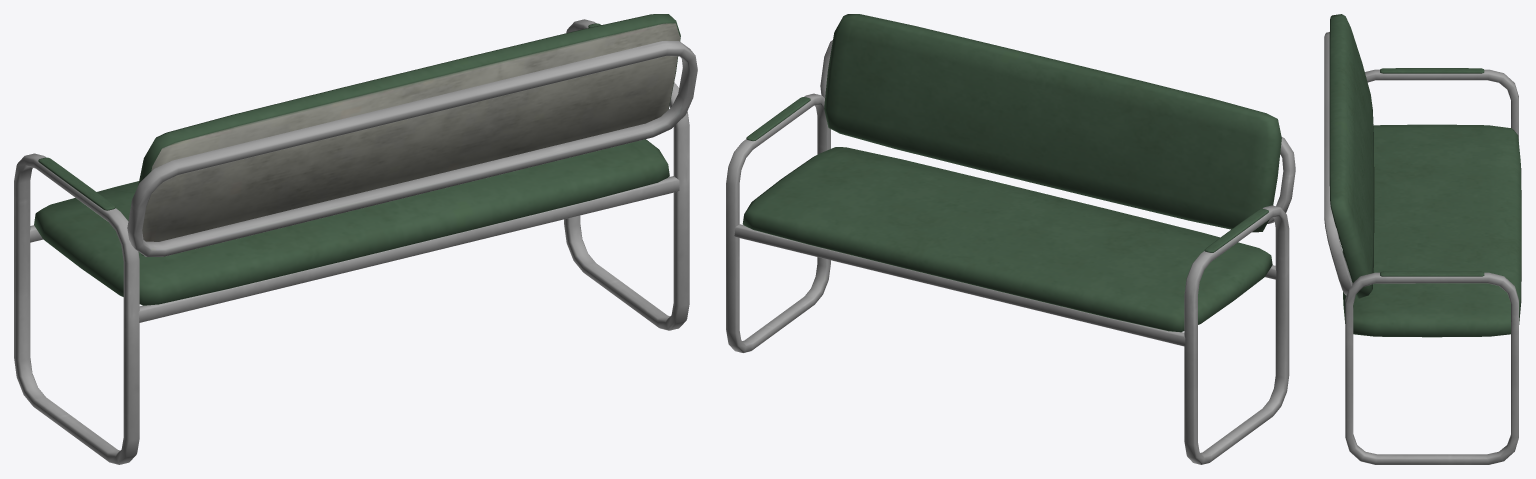
File: bench.fbx
3 views of the same model, side by side, from view 1: azimuth 30°, elevation 25°; view 2: azimuth 150°, elevation 25°; view 3: azimuth 270°, elevation 25° (orthographic). The views are drawn at different scales.
Visible parts, largest first — view 1: bench; view 2: bench; view 3: bench.
Part boxes in pixels (box(x1,y1,x2,y2)): bench: box(14, 14, 697, 464); bench: box(726, 14, 1295, 464); bench: box(1324, 14, 1521, 464).
Size of the model in its own units: 58.75 by 33.87 by 23.61.
